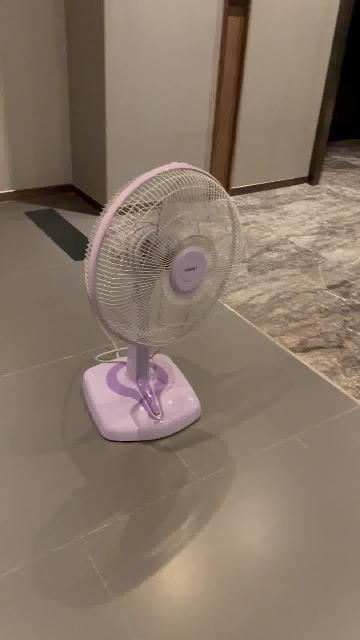Fan: (82, 162, 245, 444)
